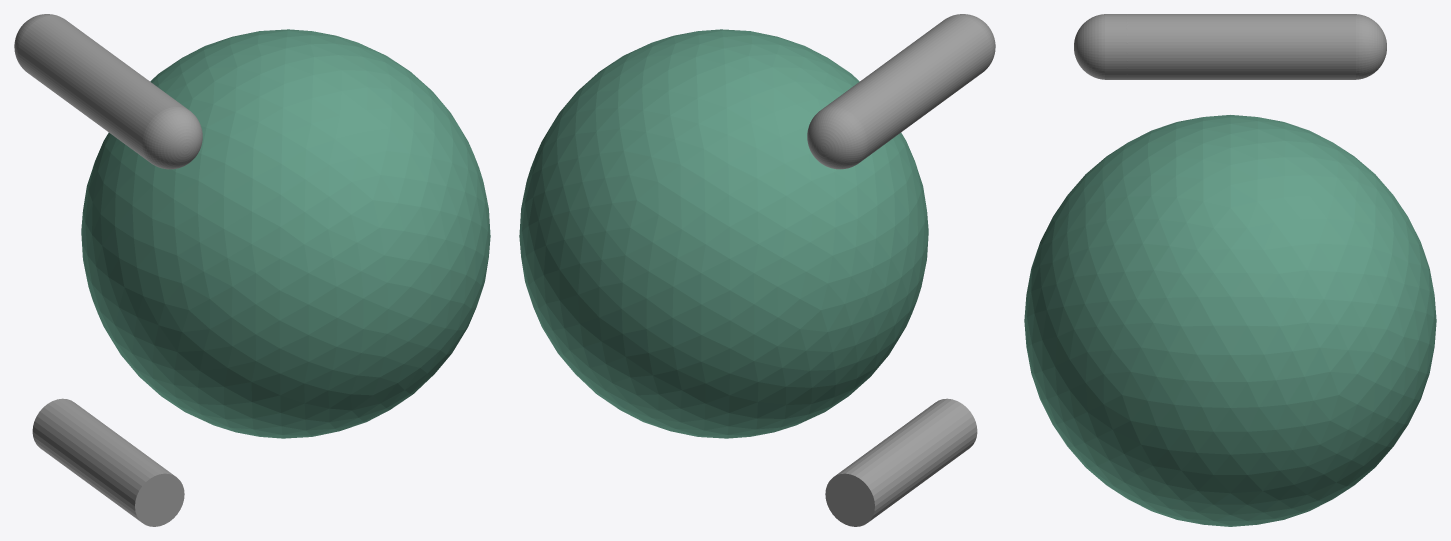
Rendered from trunk-scorpion-chimera.glb.
The picture shows the model from 3 angles, left to right: view 1: azimuth 30°, elevation 25°; view 2: azimuth 150°, elevation 25°; view 3: azimuth 270°, elevation 25°; orthographic projection.
Visible parts, largest first — view 1: body, tail_12_0, leg_8_0; view 2: body, tail_12_0, leg_8_0; view 3: body, tail_12_0.
Boxes of the visible parts, left/top/right/bottom form: body: left=81, top=29, right=490, bottom=438; tail_12_0: left=14, top=14, right=202, bottom=169; leg_8_0: left=32, top=398, right=184, bottom=526; body: left=519, top=29, right=928, bottom=438; tail_12_0: left=807, top=14, right=995, bottom=169; leg_8_0: left=825, top=398, right=977, bottom=526; body: left=1024, top=115, right=1436, bottom=526; tail_12_0: left=1074, top=14, right=1386, bottom=79.
Size of the model in its own units: 0.972 by 1.04 by 0.9.
